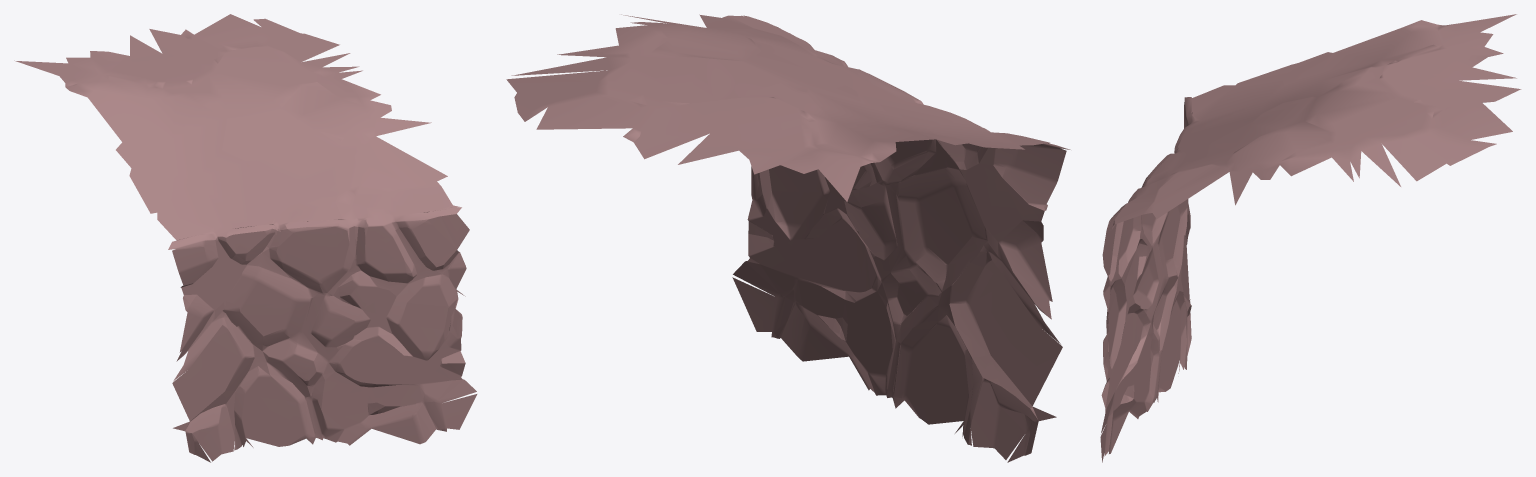
Rendered from plateau.fbx_Rock_Plateau_009LODs.fbx.
The picture shows the model from 3 angles, left to right: view 1: azimuth 30°, elevation 25°; view 2: azimuth 150°, elevation 25°; view 3: azimuth 270°, elevation 25°; orthographic projection. The views are drawn at different scales.
Parts seen in each view (by area): view 1: Rock Plateau.009_LOD0; view 2: Rock Plateau.009_LOD0; view 3: Rock Plateau.009_LOD0.
Boxes of the visible parts, <box> form: Rock Plateau.009_LOD0: <box>14,14,477,462</box>; Rock Plateau.009_LOD0: <box>506,14,1070,462</box>; Rock Plateau.009_LOD0: <box>1100,14,1521,462</box>.
Size of what is drawn, in the model's own units: 3974 by 3992 by 4652.
